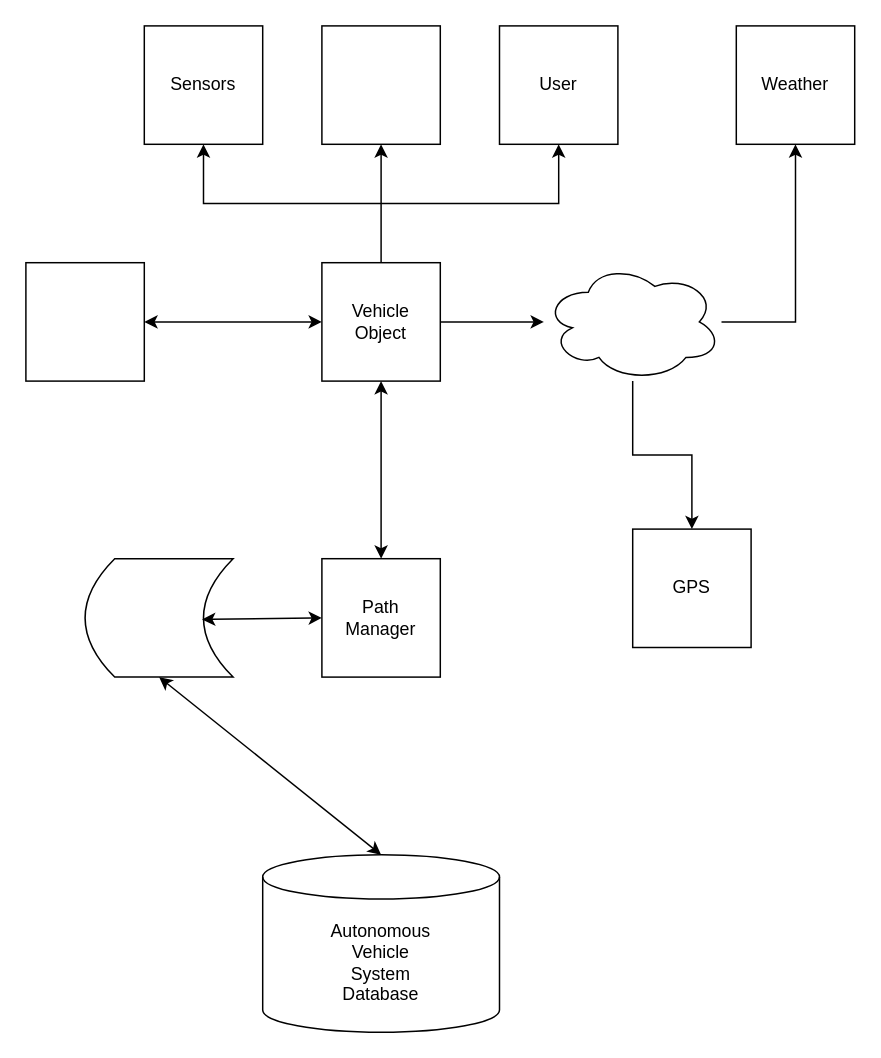
Some shapes in this 881 by 1058 pixel diagram are drawn without their labels. Each missing label, with the box of its shape:
Cameras: (320, 24, 440, 144)
Cloud: (542, 261, 722, 381)
Mechanical Systems: (24, 261, 144, 381)
Satalite: (84, 557, 233, 677)
